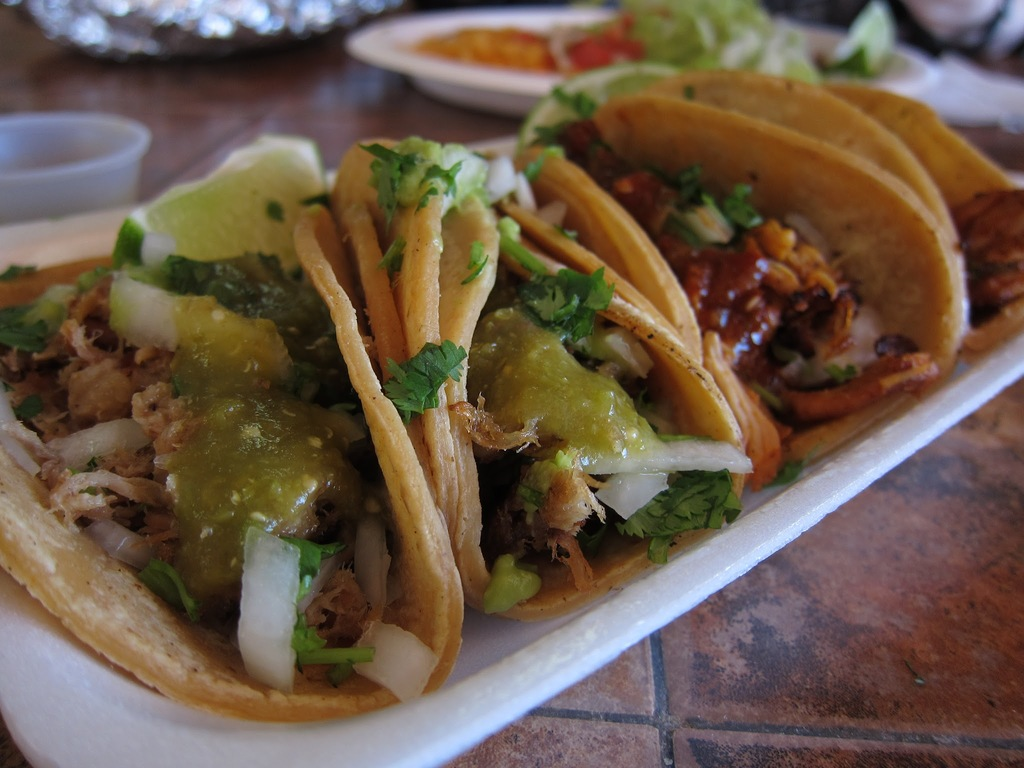taco: (0, 199, 462, 723), (353, 135, 768, 647), (510, 83, 953, 430), (622, 40, 1023, 311)
